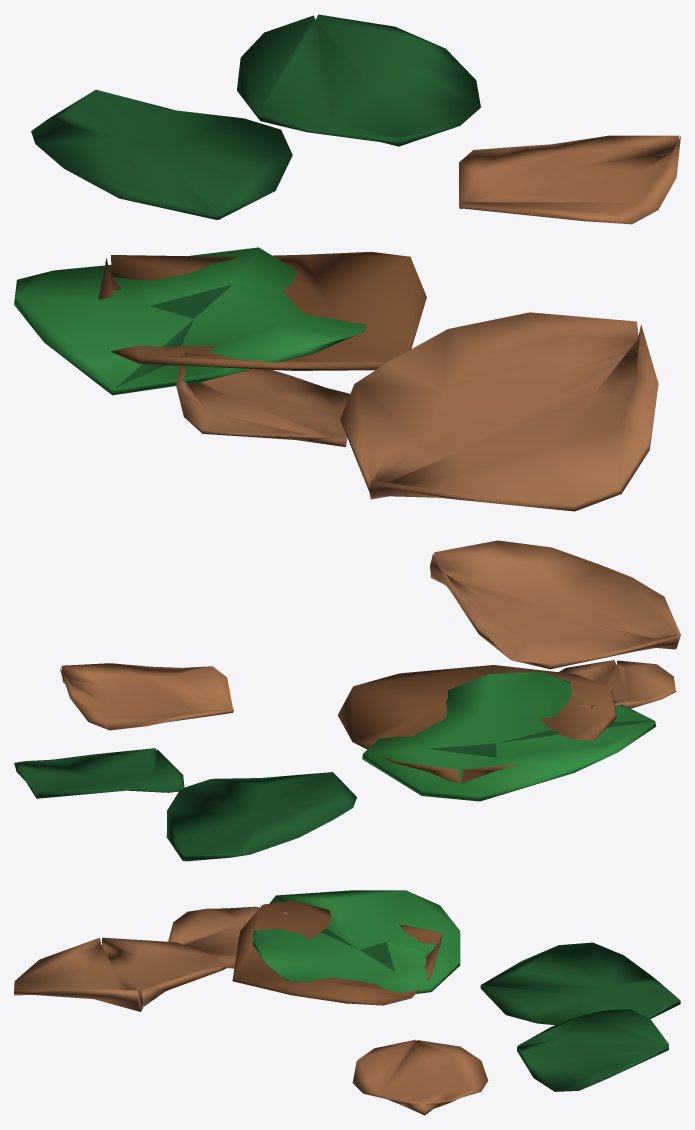
File: canopy_gc_leaf_litter_b_lod1.glb
The picture shows the model from 3 angles, top to bottom: view 1: azimuth 30°, elevation 25°; view 2: azimuth 150°, elevation 25°; view 3: azimuth 270°, elevation 25°; orthographic projection. The views are drawn at different scales.
Parts seen in each view (by area): view 1: canopy_gc_leaf_litter_b.001; view 2: canopy_gc_leaf_litter_b.001; view 3: canopy_gc_leaf_litter_b.001.
Boxes of the visible parts, left/top/right/bottom form: canopy_gc_leaf_litter_b.001: left=14, top=14, right=680, bottom=511; canopy_gc_leaf_litter_b.001: left=14, top=540, right=680, bottom=861; canopy_gc_leaf_litter_b.001: left=14, top=890, right=680, bottom=1115.
Size of the model in its own units: 3.8 by 0.4244 by 5.14.
